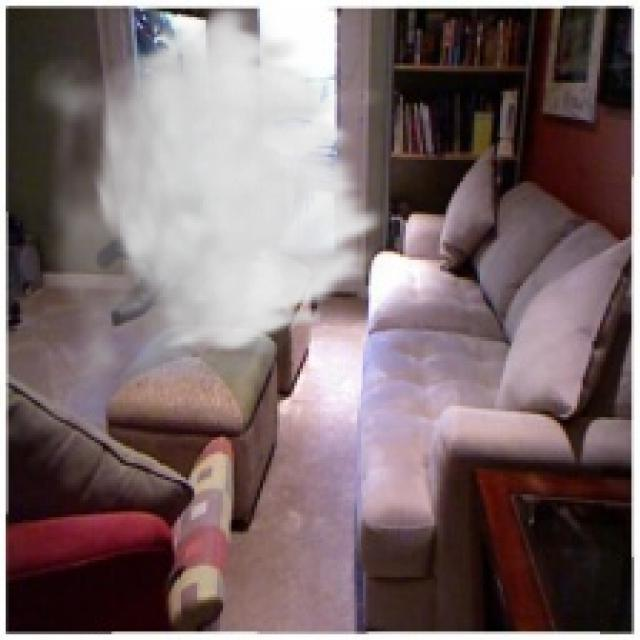Smoke: (22, 2, 392, 428)
